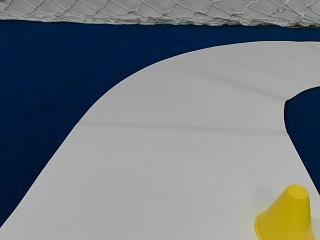cone: (253, 185, 312, 237)
